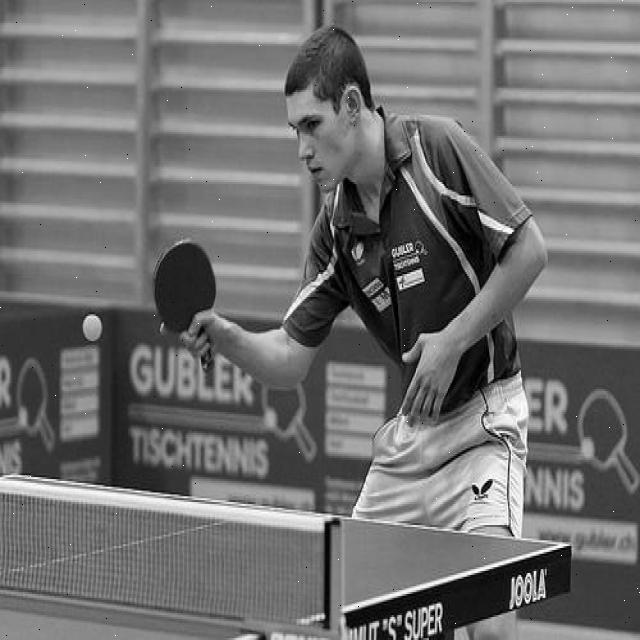ping-pong-ball: (80, 312, 104, 343)
